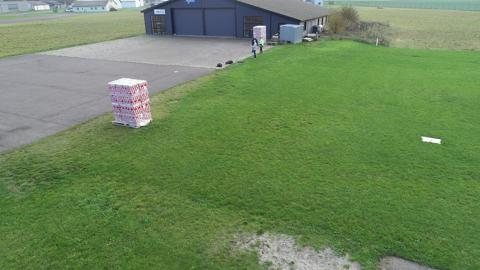RockwoolPallet: (108, 78, 153, 129)
